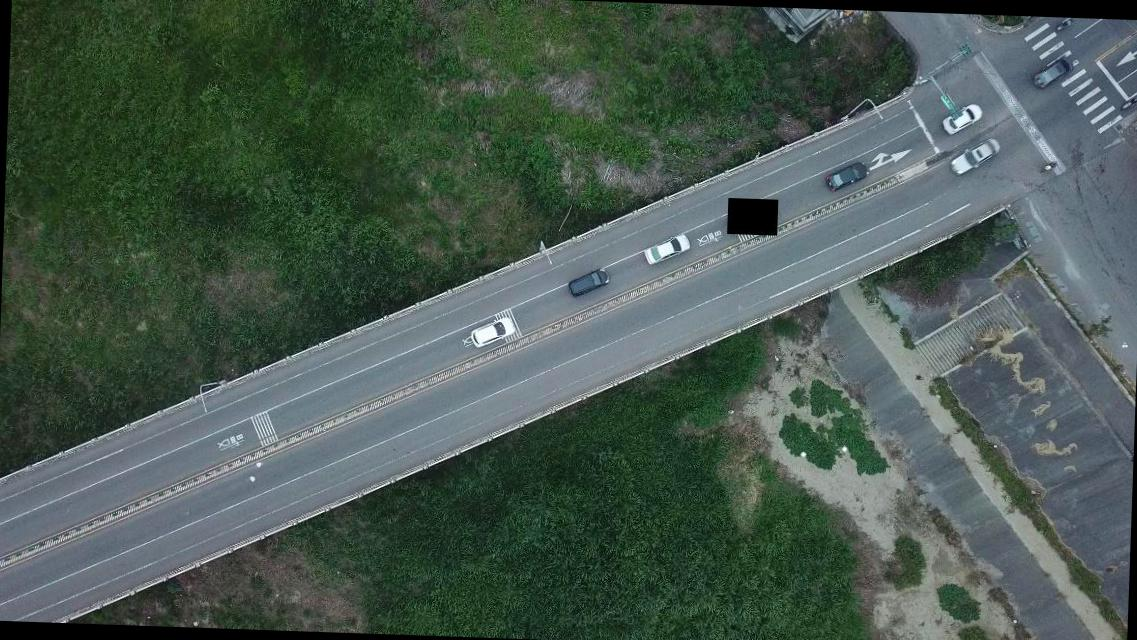vehicle: (948, 137, 1000, 176), (642, 230, 691, 266), (468, 314, 516, 350), (824, 158, 869, 194), (1032, 56, 1076, 88), (941, 102, 982, 135), (567, 266, 608, 296)
